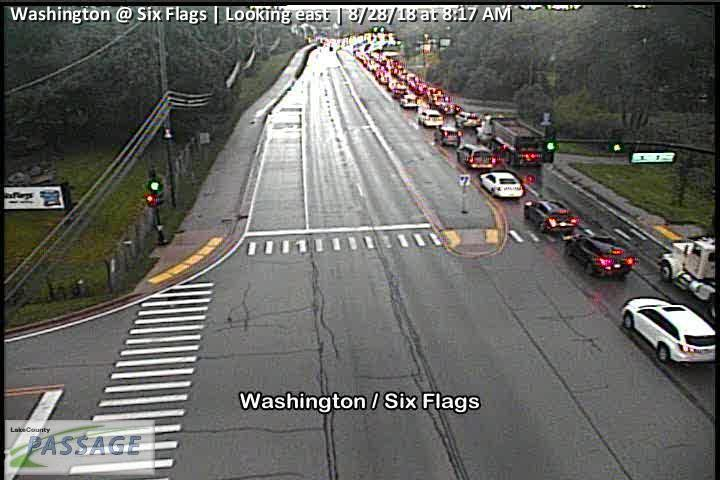SUV: (620, 296, 714, 365), (475, 114, 548, 170), (563, 233, 639, 281), (522, 198, 583, 233), (456, 142, 496, 172), (434, 125, 461, 148), (419, 108, 443, 128), (456, 108, 480, 128), (443, 101, 463, 116), (391, 84, 407, 99), (401, 95, 418, 109), (424, 87, 442, 97)
Sedan: (479, 171, 524, 200), (379, 75, 390, 83)
Truck: (656, 235, 714, 315)
